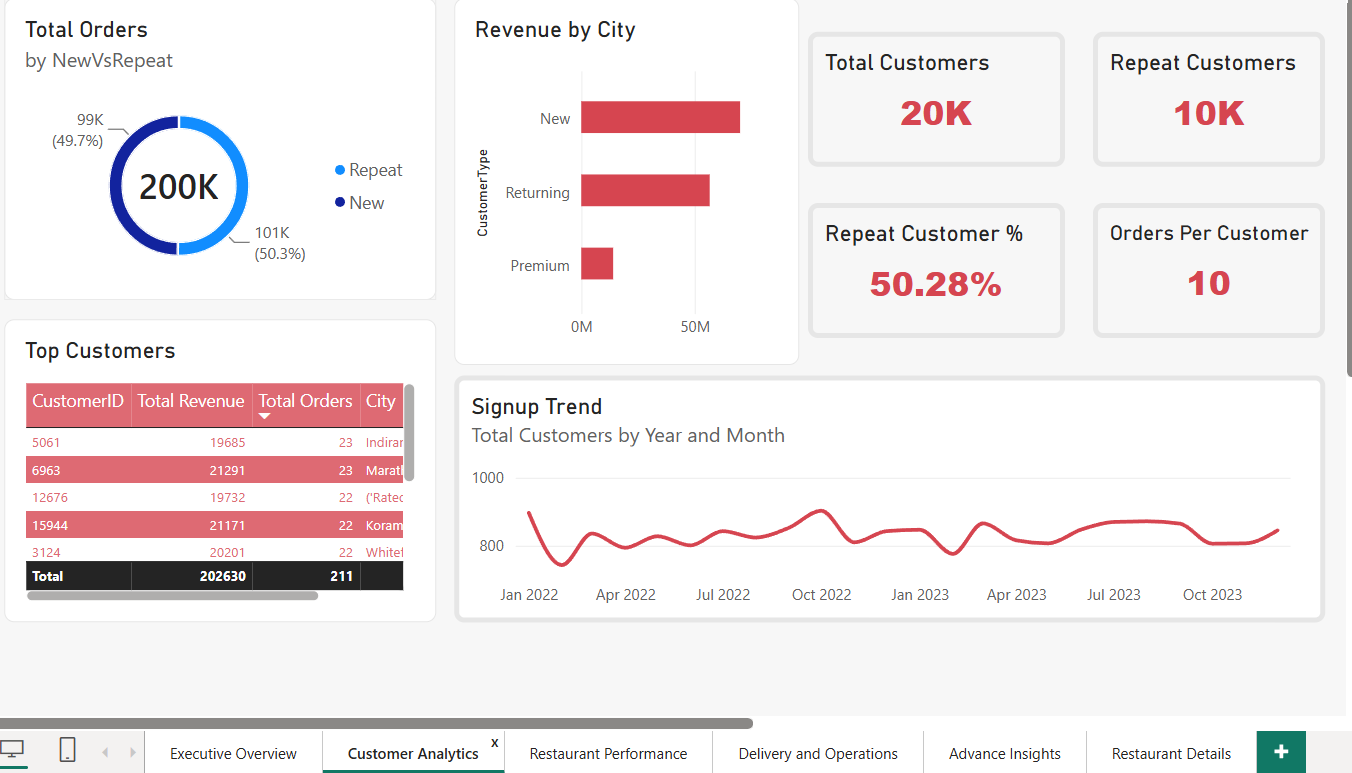

The page's visual inventory and layout, read from the dashboard file:
{"tool":"powerbi","page":{"name":"Customer Analytics","canvas":[1920,1080],"ordinal":1},"visuals":[{"type":"cardVisual","title":"Orders Per Customer","fields":{"Data":["Orders.Orders Per Customer"]},"box":[876,164.4,186,108],"z":0},{"type":"cardVisual","title":"Repeat Customer %","fields":{"Data":["Orders.Repeat Customer %"]},"box":[648,164,206,108],"z":1000},{"type":"cardVisual","title":"Total Customers","fields":{"Data":["Orders.Total Customers"]},"box":[648,27,206,108],"z":2000},{"type":"lineChart","title":"Signup Trend","fields":{"Category":["Customers.SignupDate.Variation.Date Hierarchy.Year","Customers.SignupDate.Variation.Date Hierarchy.Month"],"Y":["Orders.Total Customers"]},"box":[365,302,697,198],"z":3000},{"type":"barChart","title":"Revenue by City","fields":{"Category":["Customers.CustomerType"],"Y":["Orders.Total Revenue"]},"box":[365,0,276,294],"z":4000},{"type":"donutChart","fields":{"Category":["Customers.NewVsRepeat"],"Y":["Orders.Total Orders"]},"box":[5,0,346,242],"z":5000},{"type":"tableEx","title":"Top Customers","fields":{"Values":["Customers.CustomerID","Orders.Total Revenue","Orders.Total Orders","Customers.City"]},"box":[5,257,346,243],"z":6000},{"type":"cardVisual","title":"Repeat Customers","fields":{"Data":["Orders.Repeat Customers"]},"box":[876,27,186,108],"z":7000}]}

Visuals, with their boxes on the page's 1920x1080 design canvas (x1, y1, x2, y2). These are canvas units, not pixel positions in the 1352x773 screenshot, which may show the page scaled, cropped or inside an application window:
"Orders Per Customer" cardVisual: Rect(876, 164, 1062, 272)
"Repeat Customer %" cardVisual: Rect(648, 164, 854, 272)
"Total Customers" cardVisual: Rect(648, 27, 854, 135)
"Signup Trend" lineChart: Rect(365, 302, 1062, 500)
"Revenue by City" barChart: Rect(365, 0, 641, 294)
donutChart - Customers.NewVsRepeat x Orders.Total Orders: Rect(5, 0, 351, 242)
"Top Customers" tableEx: Rect(5, 257, 351, 500)
"Repeat Customers" cardVisual: Rect(876, 27, 1062, 135)
